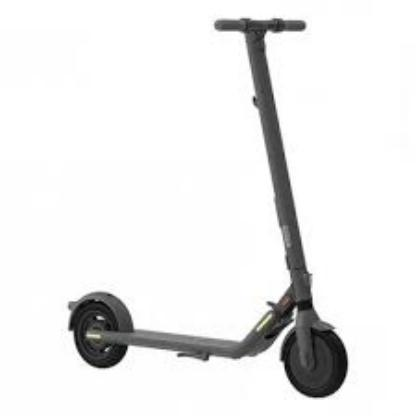bike: (66, 18, 349, 399)
